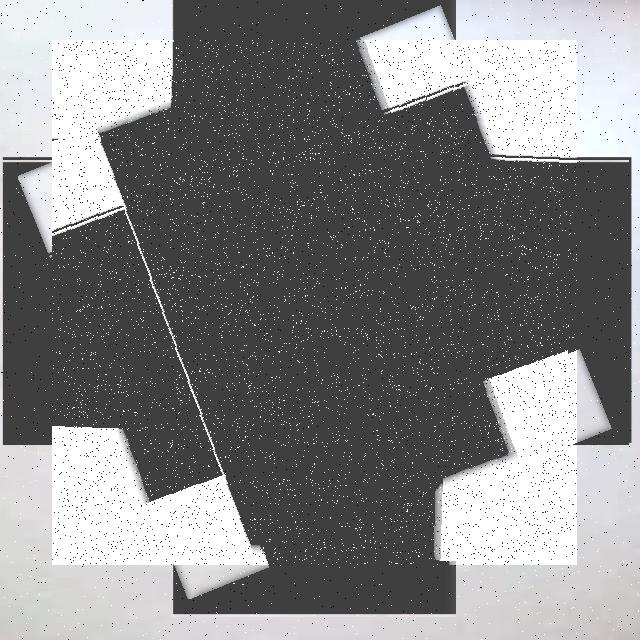lima puluh ribu rupiah: (52, 40, 577, 565)
